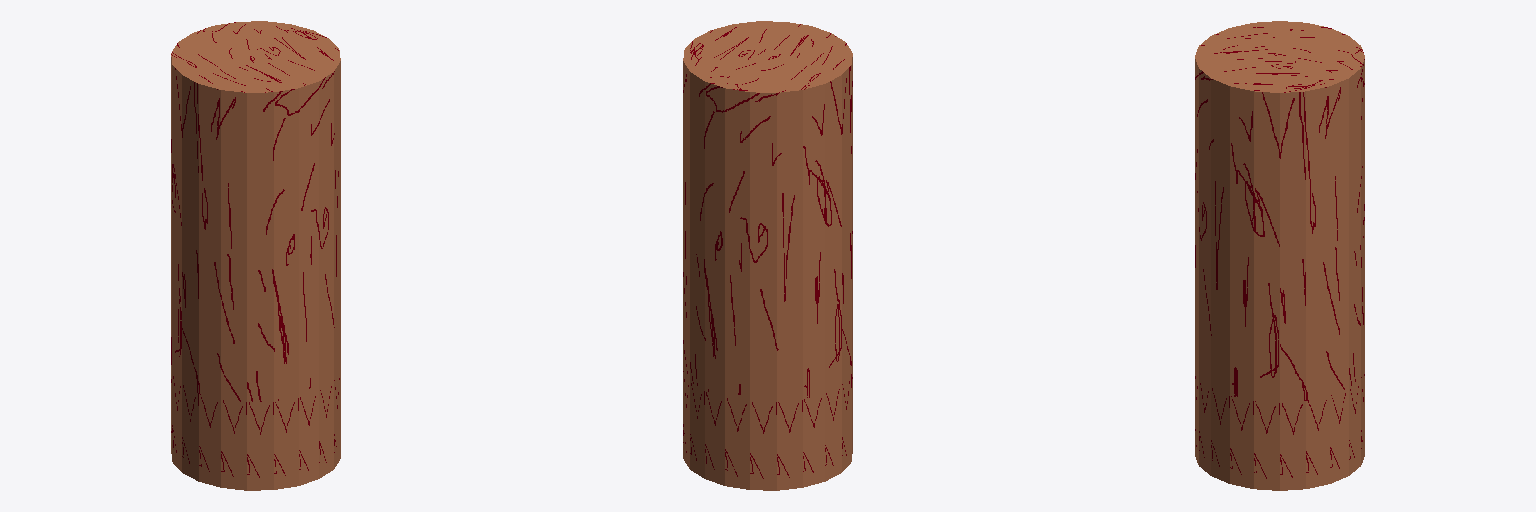
3 views of the same model, side by side, from view 1: azimuth 30°, elevation 25°; view 2: azimuth 150°, elevation 25°; view 3: azimuth 270°, elevation 25° (orthographic).
Visible parts, largest first — view 1: table; view 2: table; view 3: table.
Boxes of the visible parts, <box> form: table: <box>171,21,340,490</box>; table: <box>683,21,852,490</box>; table: <box>1195,21,1364,490</box>.
Bounding box in the file's own units: 1 × 2.57 × 1.
1 materials, 1 textured.